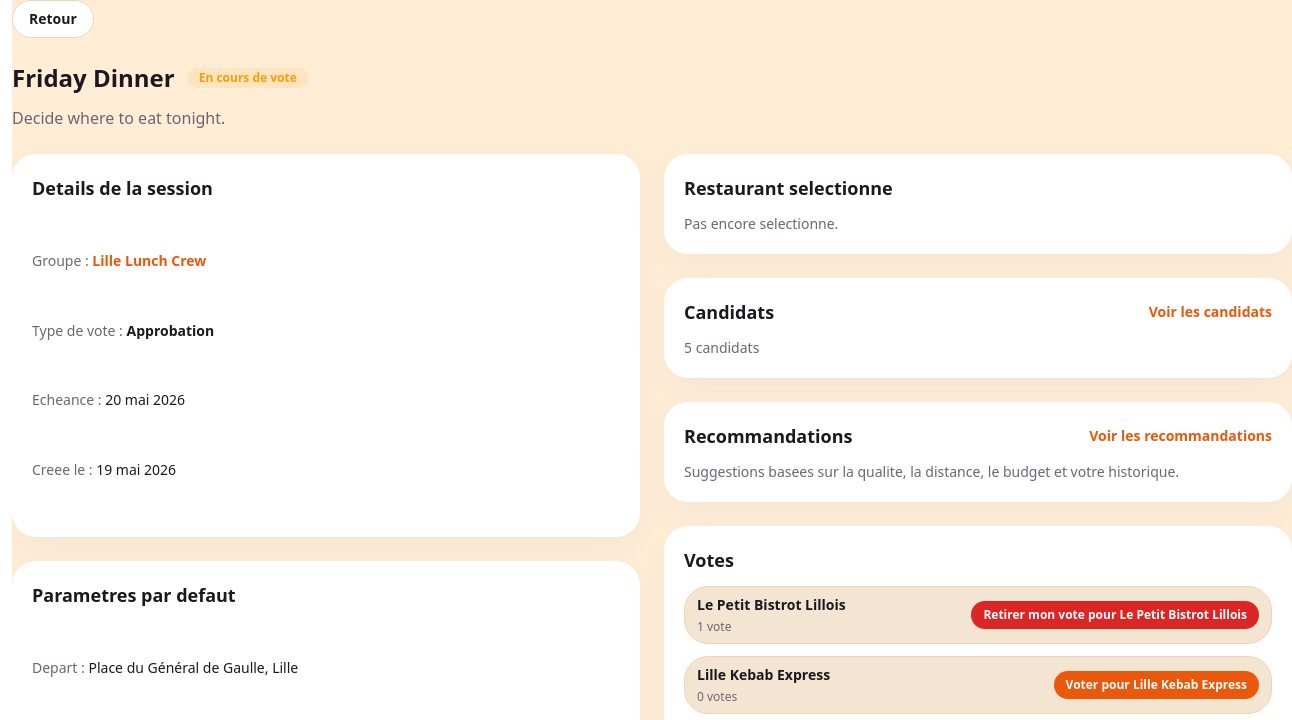
Test: SessionDetailPage › replaces existing user votes when casting a new candidate vote
Expected: the button "Retirer mon vote pour Le Petit Bistrot Lillois" is shown, [971, 601, 1259, 629]
Click the button "Voter pour Lille Kebab Express" at [1156, 685], box [1054, 671, 1259, 699]
(page scrolled)
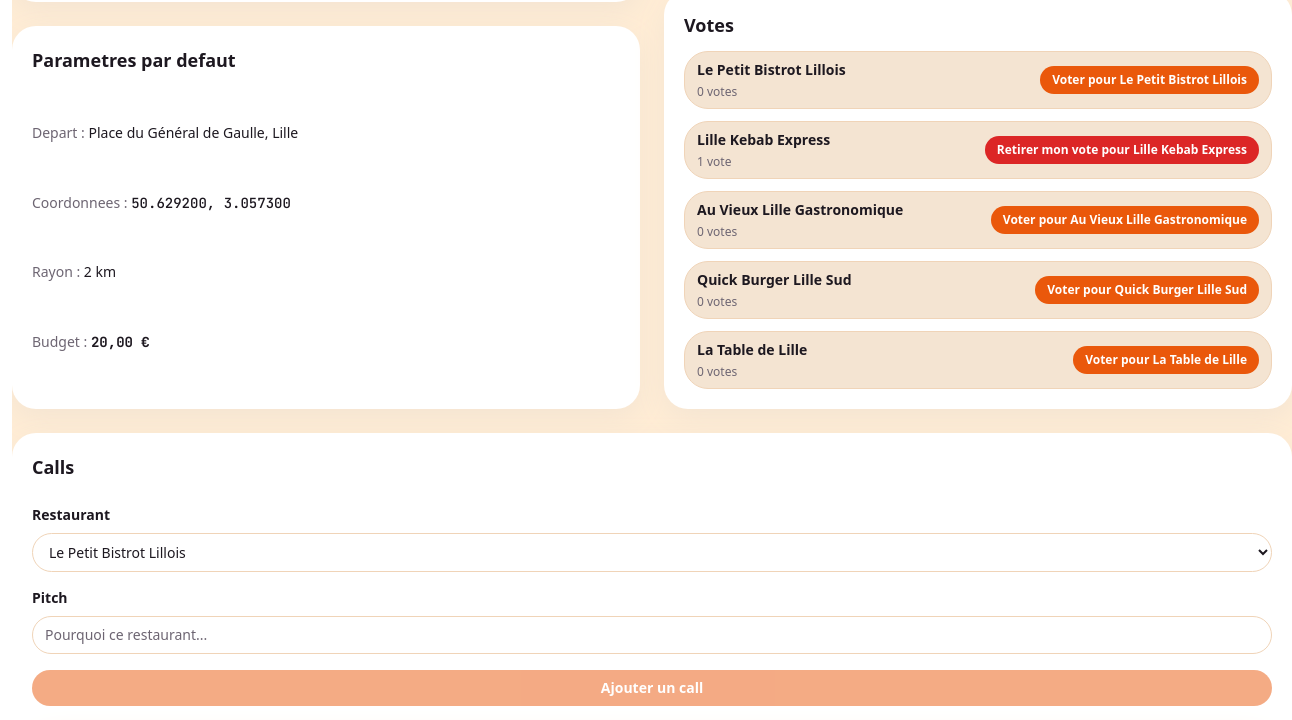
Now the button "Retirer mon vote pour Lille Kebab Express" is shown, box [985, 136, 1259, 164]
Now the button "Voter pour Le Petit Bistrot Lillois" is shown, box [1040, 66, 1259, 94]
Now the button "Voter pour La Table de Lille" is shown, box [1073, 346, 1259, 374]
